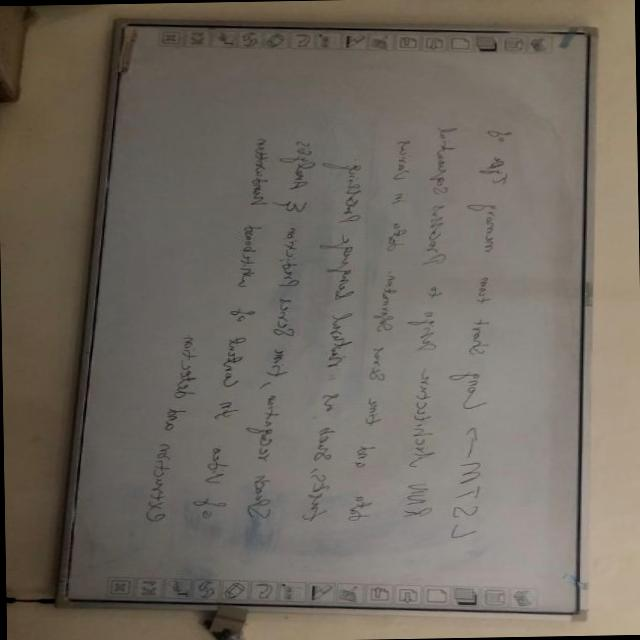White-board: (65, 25, 587, 613)
